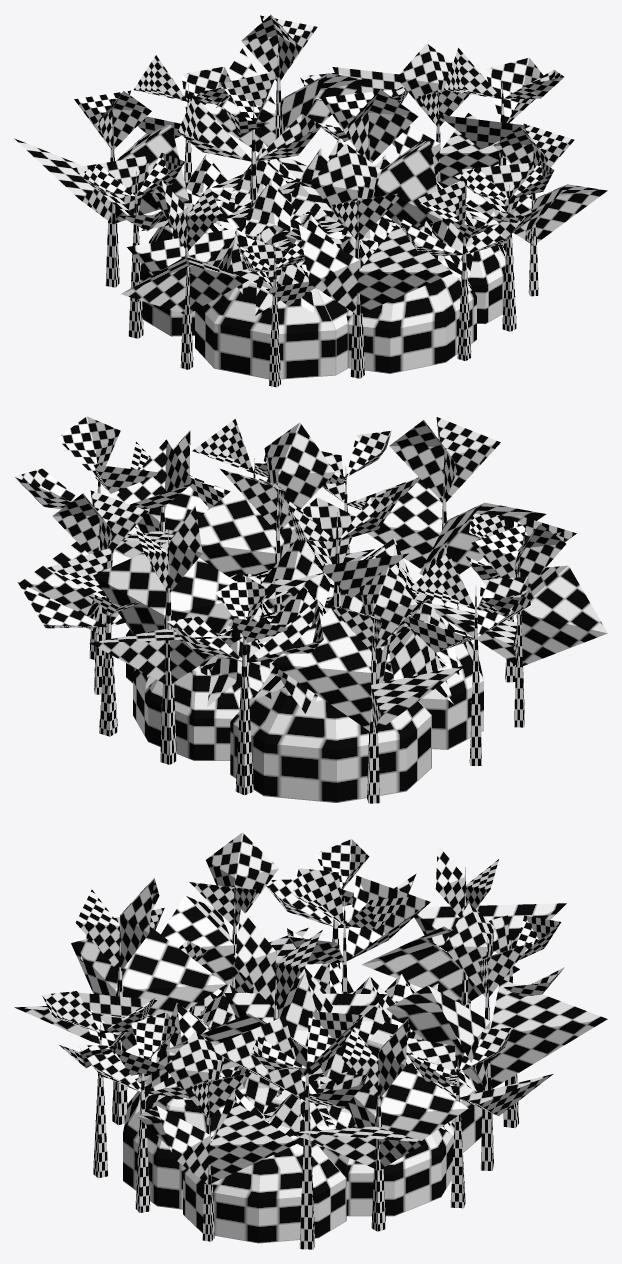
File: nafltr66.dae
The picture shows the model from 3 angles, top to bottom: view 1: azimuth 30°, elevation 25°; view 2: azimuth 150°, elevation 25°; view 3: azimuth 270°, elevation 25°; orthographic projection. The views are drawn at different scales.
Visible parts, largest first — view 1: trunk; view 2: trunk; view 3: trunk.
Part boxes in pixels (<box>): trunk: <box>14,15,607,387</box>; trunk: <box>14,416,607,803</box>; trunk: <box>14,832,607,1249</box>.
Bounding box in the file's own units: 10.26 × 9.99 × 5.01.
1 material, 1 textured.
